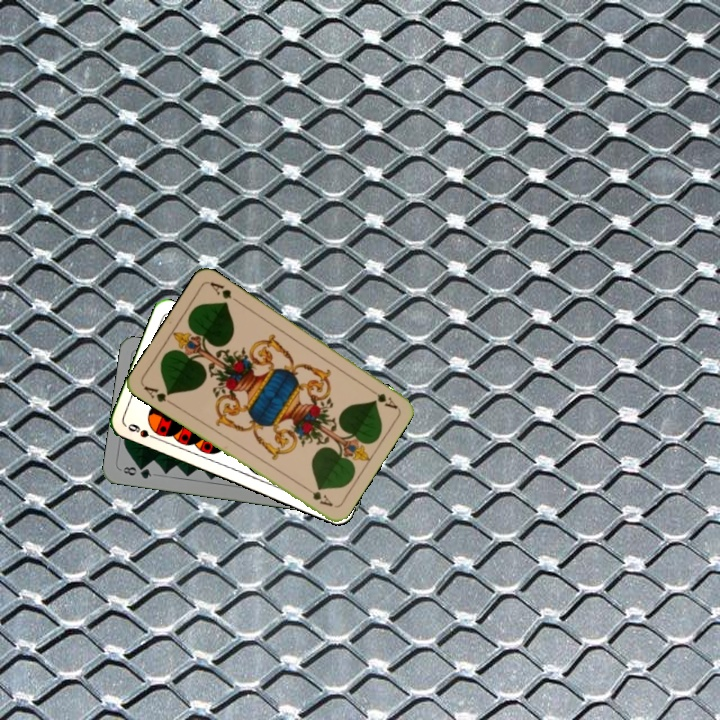G8: (119, 462, 154, 481)
GA: (363, 383, 400, 412), (140, 382, 177, 408)
S9: (124, 420, 162, 443)
